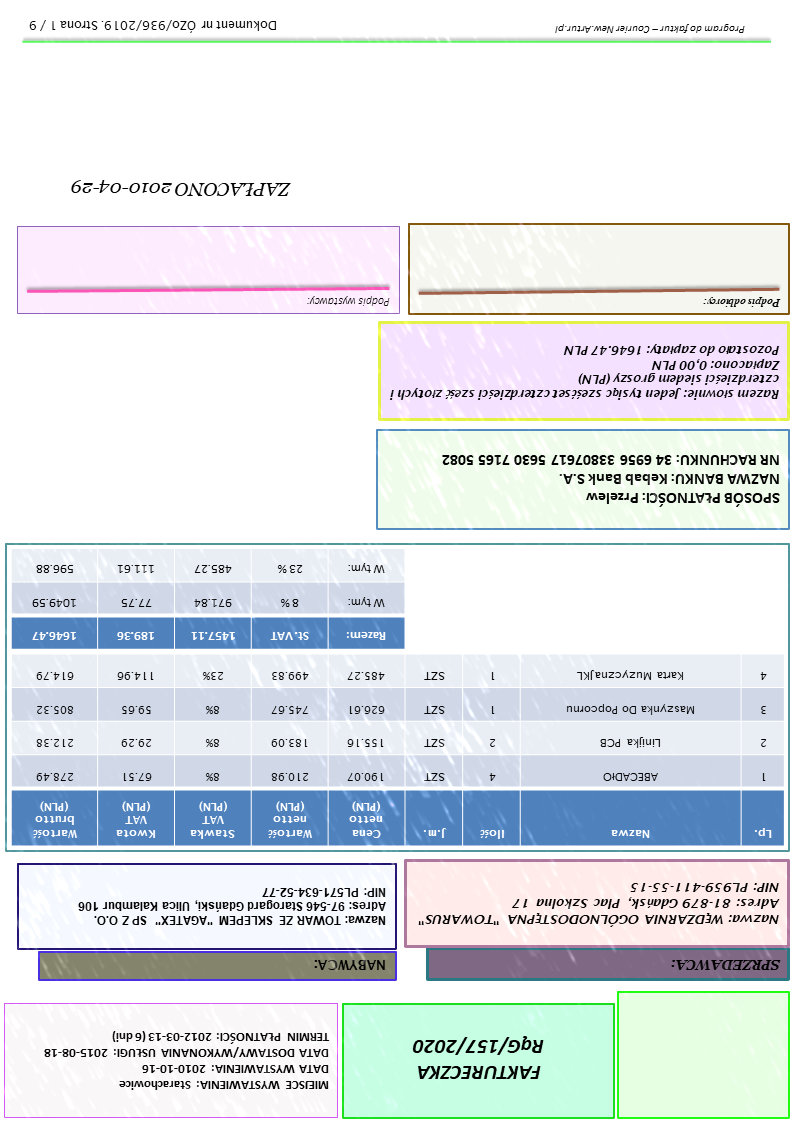Table: (11, 654, 786, 848), (10, 549, 407, 650)
TextBox: (387, 342, 783, 403), (439, 450, 784, 508), (42, 1030, 332, 1092), (417, 880, 783, 928), (77, 886, 389, 928), (411, 1032, 547, 1083), (69, 176, 293, 200), (28, 17, 279, 33), (553, 21, 749, 37), (670, 957, 784, 973), (312, 955, 389, 974), (306, 294, 392, 309), (701, 296, 783, 311)
